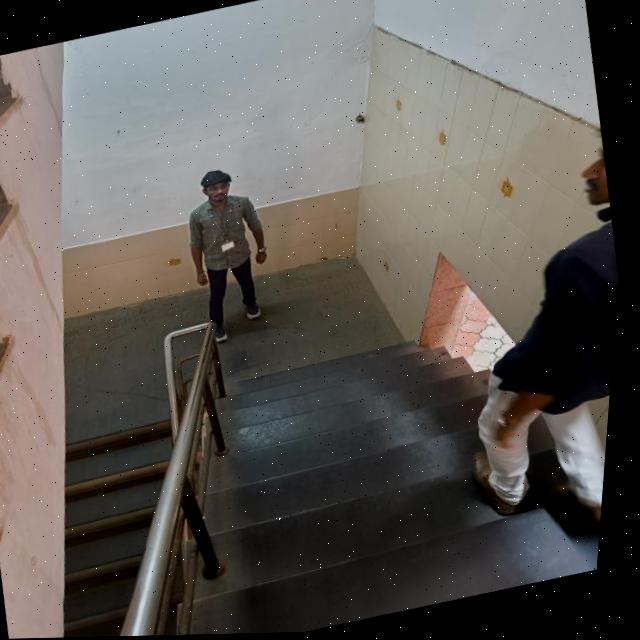id_card: (198, 200, 252, 264)
